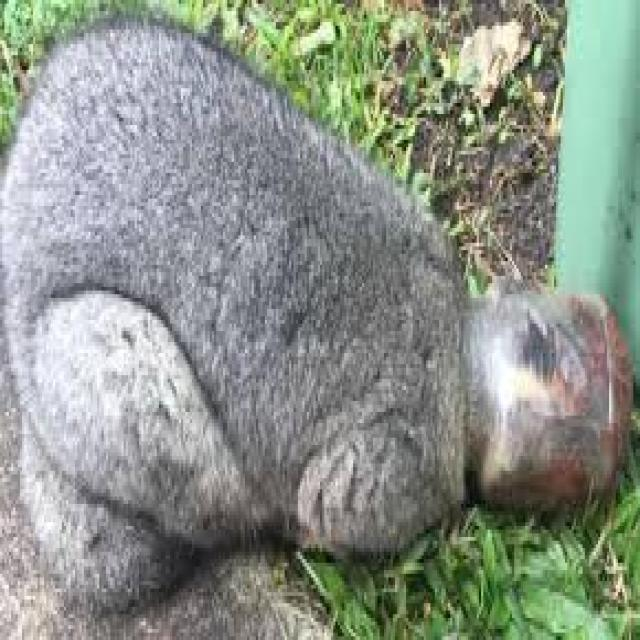Possum: (0, 15, 629, 592)
